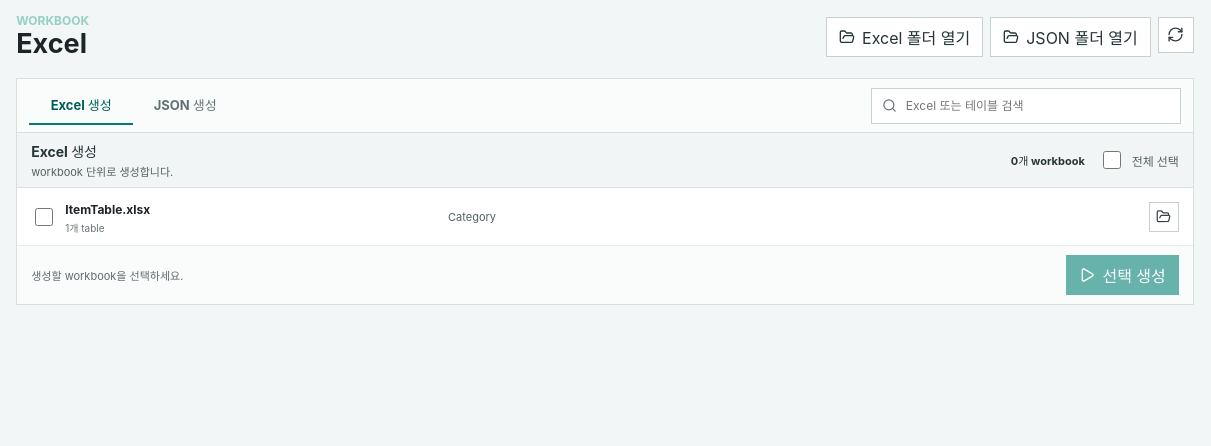
Test: ExcelScreen collision policy › blocks self-reference row cycles before the first JSON write with a Korean path diagnostic
Click the tab "JSON 생성": (185, 106) [133, 86, 237, 125]
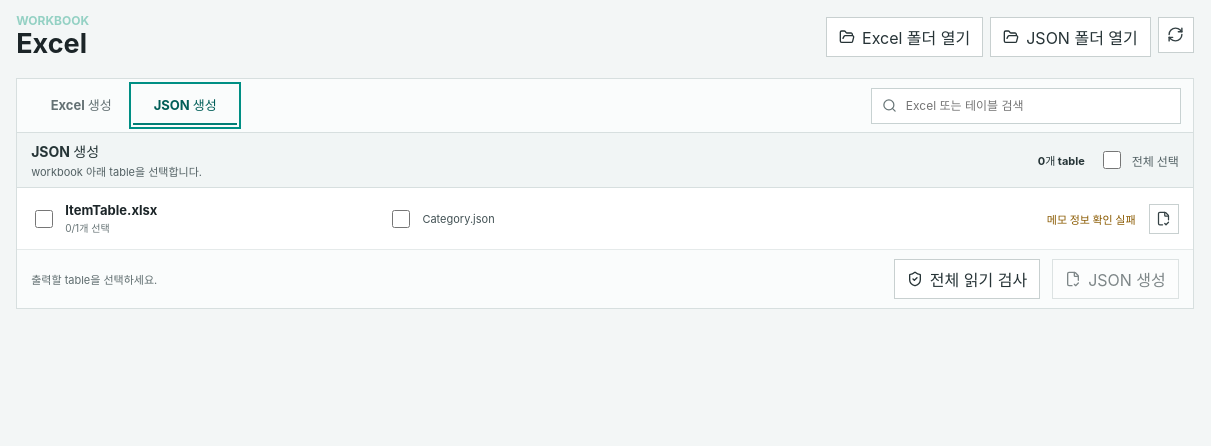
Click the checkbox named "ItemTable.xlsx Category JSON 테이블": (401, 219) [392, 210, 410, 228]
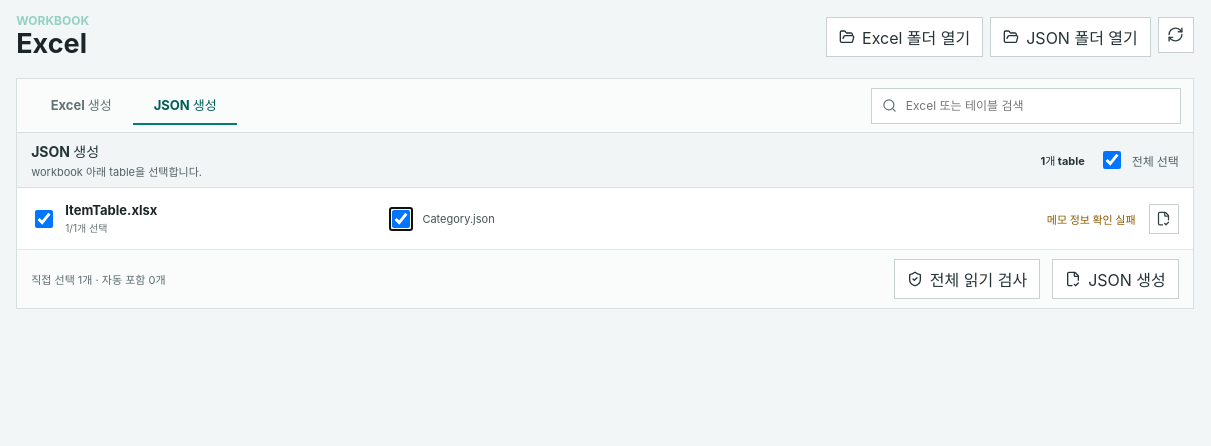
Click the button "JSON 생성": (1116, 279) [1052, 259, 1179, 299]
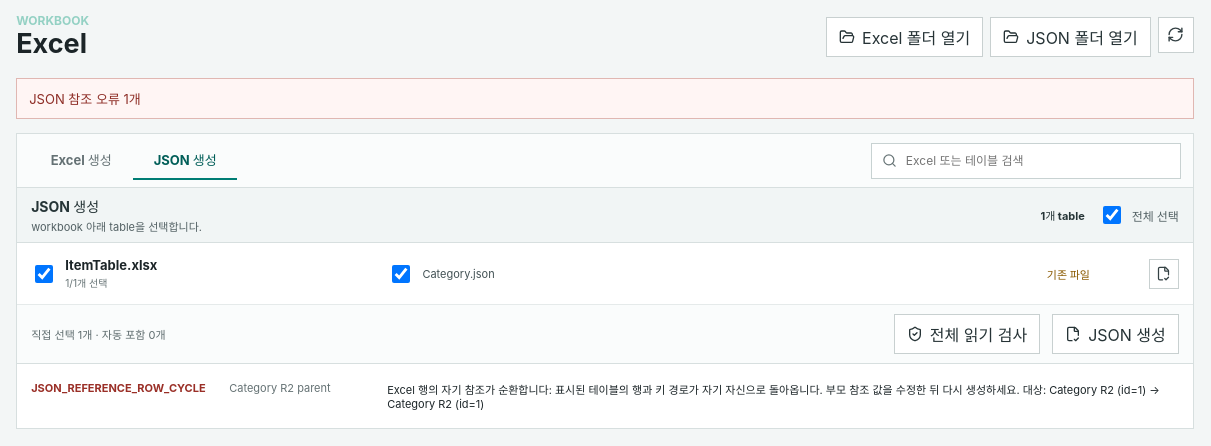
Expected: the text "JSON_REFERENCE_ROW_CYCLE" is shown, [31, 381, 206, 395]
Expected: the text "Category R2 (id=1)" is shown, [387, 383, 1160, 411]
